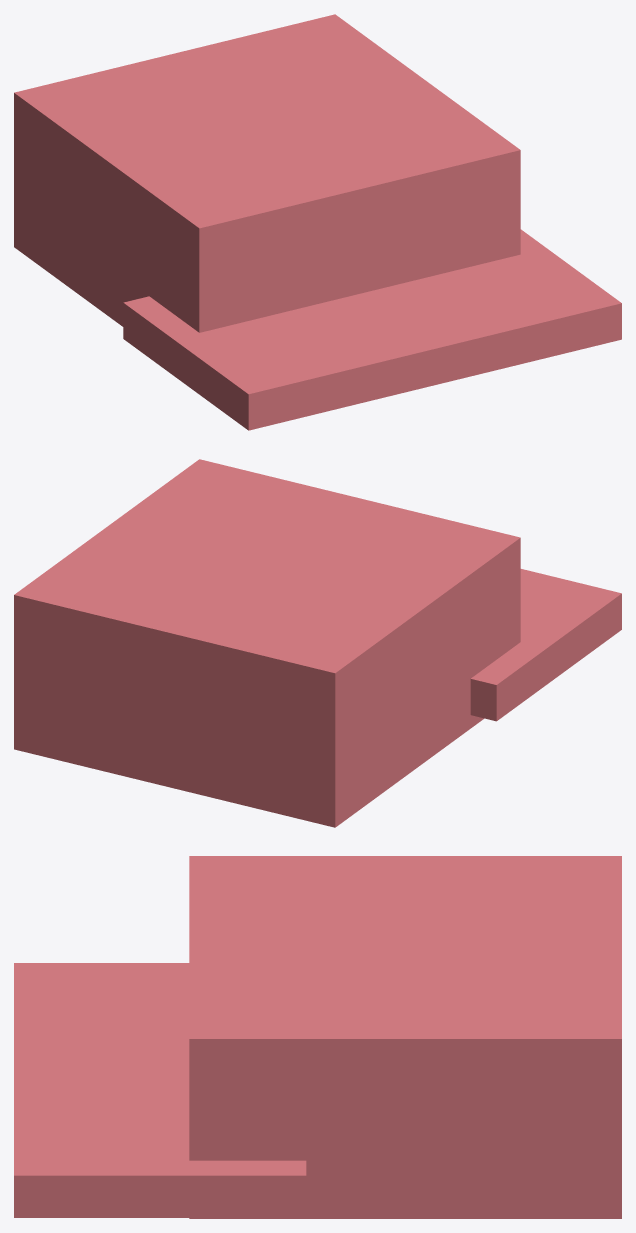
The model's file is hat_cap.glb.
The picture shows the model from 3 angles, top to bottom: view 1: azimuth 30°, elevation 25°; view 2: azimuth 150°, elevation 25°; view 3: azimuth 270°, elevation 25°; orthographic projection. The views are drawn at different scales.
Bounding box in the file's own units: 0.86 × 0.34 × 1.04.
